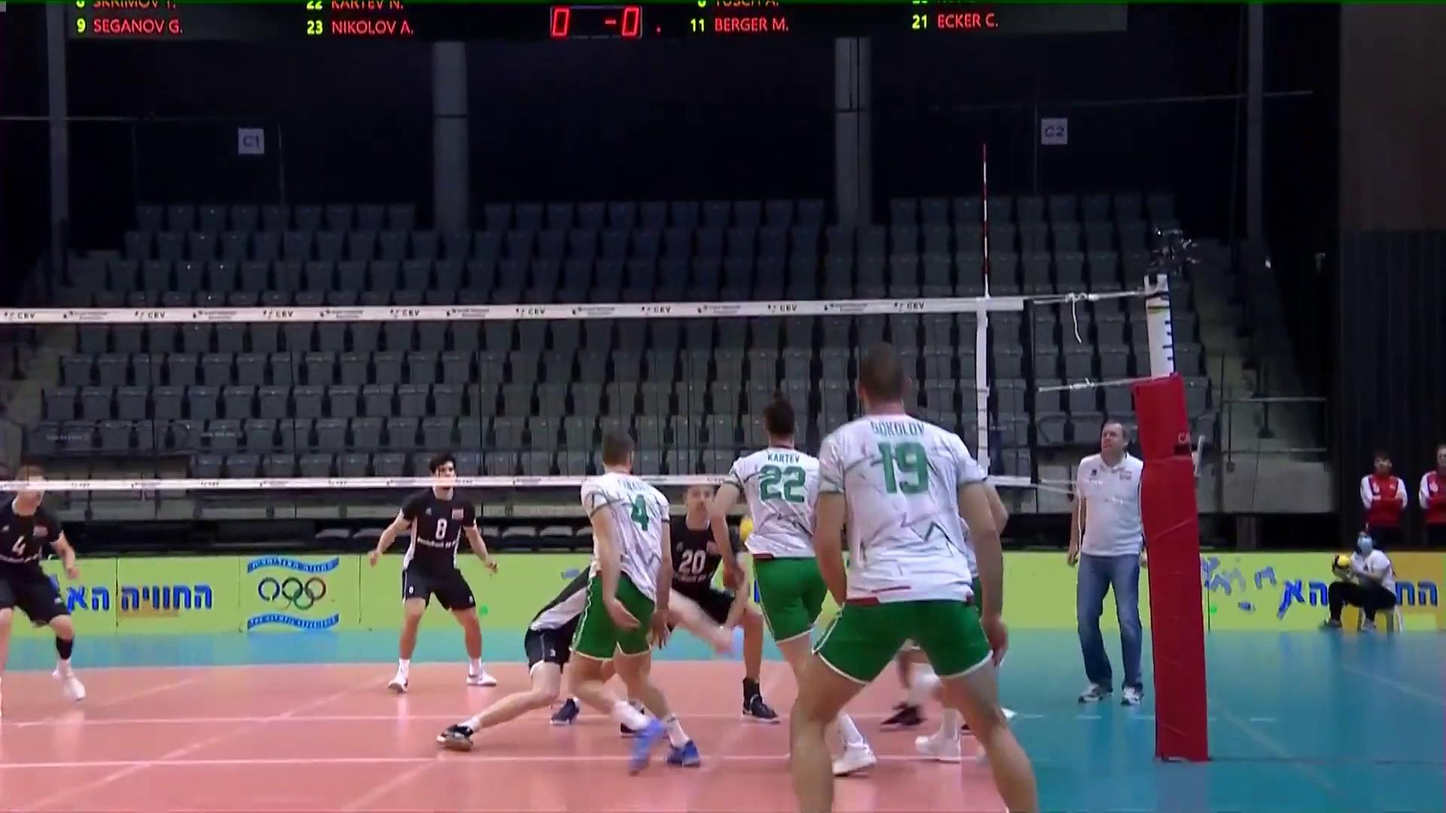ball: (732, 512, 761, 544)
